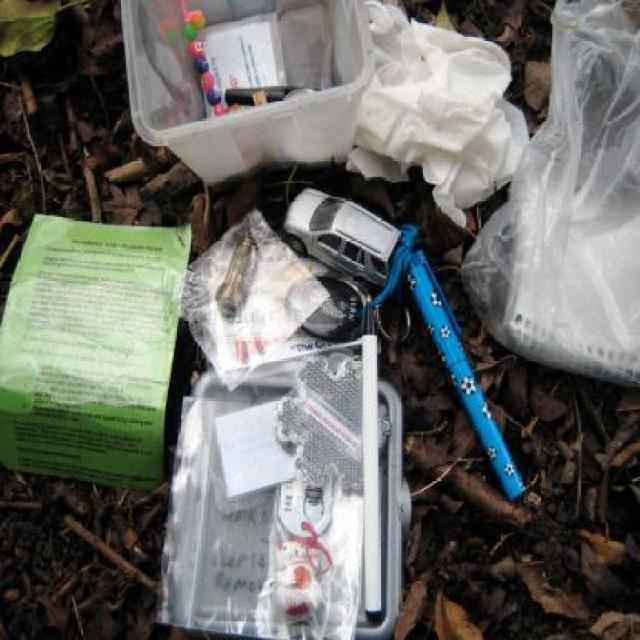plastic bag: (461, 0, 640, 384)
